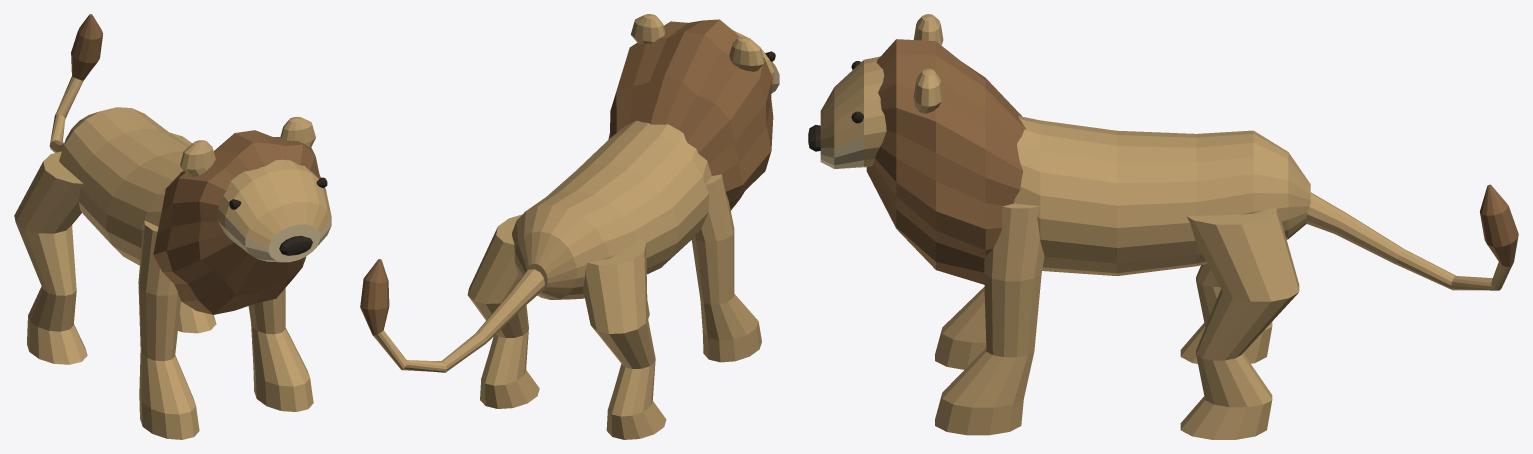
3 renders of one model, left to right at view 1: azimuth 30°, elevation 25°; view 2: azimuth 150°, elevation 25°; view 3: azimuth 270°, elevation 25°, orthographic. The views are drawn at different scales.
Visible parts, largest first — view 1: WholeBroadFelineMuzzleHeadNeckChestAndTorso, WholeUnevenCheekThroatAndShoulderMane, WholeHeavyRearFelineLegAndRoundedPaw0, WholeHeavyFrontFelineLegAndRoundedPaw0, WholeHeavyFrontFelineLegAndRoundedPaw1, WholeLongNarrowCurvedTailAndIntegralTuft, WholeSmallRoundedLionEar0, WholeHeavyRearFelineLegAndRoundedPaw1, WholeSmallRoundedLionEar1, WholeBroadShortFelineNose; view 2: WholeBroadFelineMuzzleHeadNeckChestAndTorso, WholeUnevenCheekThroatAndShoulderMane, WholeHeavyRearFelineLegAndRoundedPaw0, WholeHeavyFrontFelineLegAndRoundedPaw0, WholeHeavyRearFelineLegAndRoundedPaw1, WholeLongNarrowCurvedTailAndIntegralTuft, WholeSmallRoundedLionEar0, WholeSmallRoundedLionEar1; view 3: WholeBroadFelineMuzzleHeadNeckChestAndTorso, WholeUnevenCheekThroatAndShoulderMane, WholeHeavyRearFelineLegAndRoundedPaw1, WholeHeavyFrontFelineLegAndRoundedPaw1, WholeLongNarrowCurvedTailAndIntegralTuft, WholeHeavyFrontFelineLegAndRoundedPaw0, WholeHeavyRearFelineLegAndRoundedPaw0, WholeSmallRoundedLionEar1, WholeSmallRoundedLionEar0.
Part boxes in pixels (x1,y1,x2,y2): WholeBroadFelineMuzzleHeadNeckChestAndTorso: (59, 107, 331, 265); WholeUnevenCheekThroatAndShoulderMane: (153, 130, 326, 314); WholeHeavyRearFelineLegAndRoundedPaw0: (14, 151, 87, 364); WholeHeavyFrontFelineLegAndRoundedPaw0: (138, 220, 199, 439); WholeHeavyFrontFelineLegAndRoundedPaw1: (248, 288, 313, 411); WholeLongNarrowCurvedTailAndIntegralTuft: (49, 14, 103, 152); WholeSmallRoundedLionEar0: (180, 140, 215, 177); WholeHeavyRearFelineLegAndRoundedPaw1: (170, 132, 216, 333); WholeSmallRoundedLionEar1: (280, 116, 315, 148); WholeBroadShortFelineNose: (279, 236, 312, 255); WholeBroadFelineMuzzleHeadNeckChestAndTorso: (512, 30, 779, 299); WholeUnevenCheekThroatAndShoulderMane: (608, 19, 773, 210); WholeHeavyRearFelineLegAndRoundedPaw0: (583, 239, 666, 439); WholeHeavyFrontFelineLegAndRoundedPaw0: (691, 174, 761, 362); WholeHeavyRearFelineLegAndRoundedPaw1: (467, 214, 539, 408); WholeLongNarrowCurvedTailAndIntegralTuft: (360, 259, 544, 372); WholeSmallRoundedLionEar0: (729, 37, 764, 71); WholeSmallRoundedLionEar1: (631, 14, 665, 44); WholeBroadFelineMuzzleHeadNeckChestAndTorso: (820, 56, 1310, 275); WholeUnevenCheekThroatAndShoulderMane: (866, 39, 1025, 284); WholeHeavyRearFelineLegAndRoundedPaw1: (1180, 206, 1299, 439); WholeHeavyFrontFelineLegAndRoundedPaw1: (935, 203, 1044, 435); WholeLongNarrowCurvedTailAndIntegralTuft: (1306, 184, 1518, 290); WholeHeavyFrontFelineLegAndRoundedPaw0: (935, 287, 986, 369); WholeHeavyRearFelineLegAndRoundedPaw0: (1180, 264, 1272, 363); WholeSmallRoundedLionEar1: (913, 68, 943, 113); WholeSmallRoundedLionEar0: (913, 14, 943, 45).
Bounding box in the file's own units: 0.9956 × 1.54 × 2.86.
